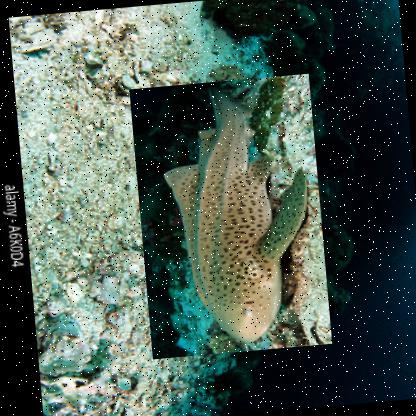zebra_shark: (128, 73, 332, 360)
